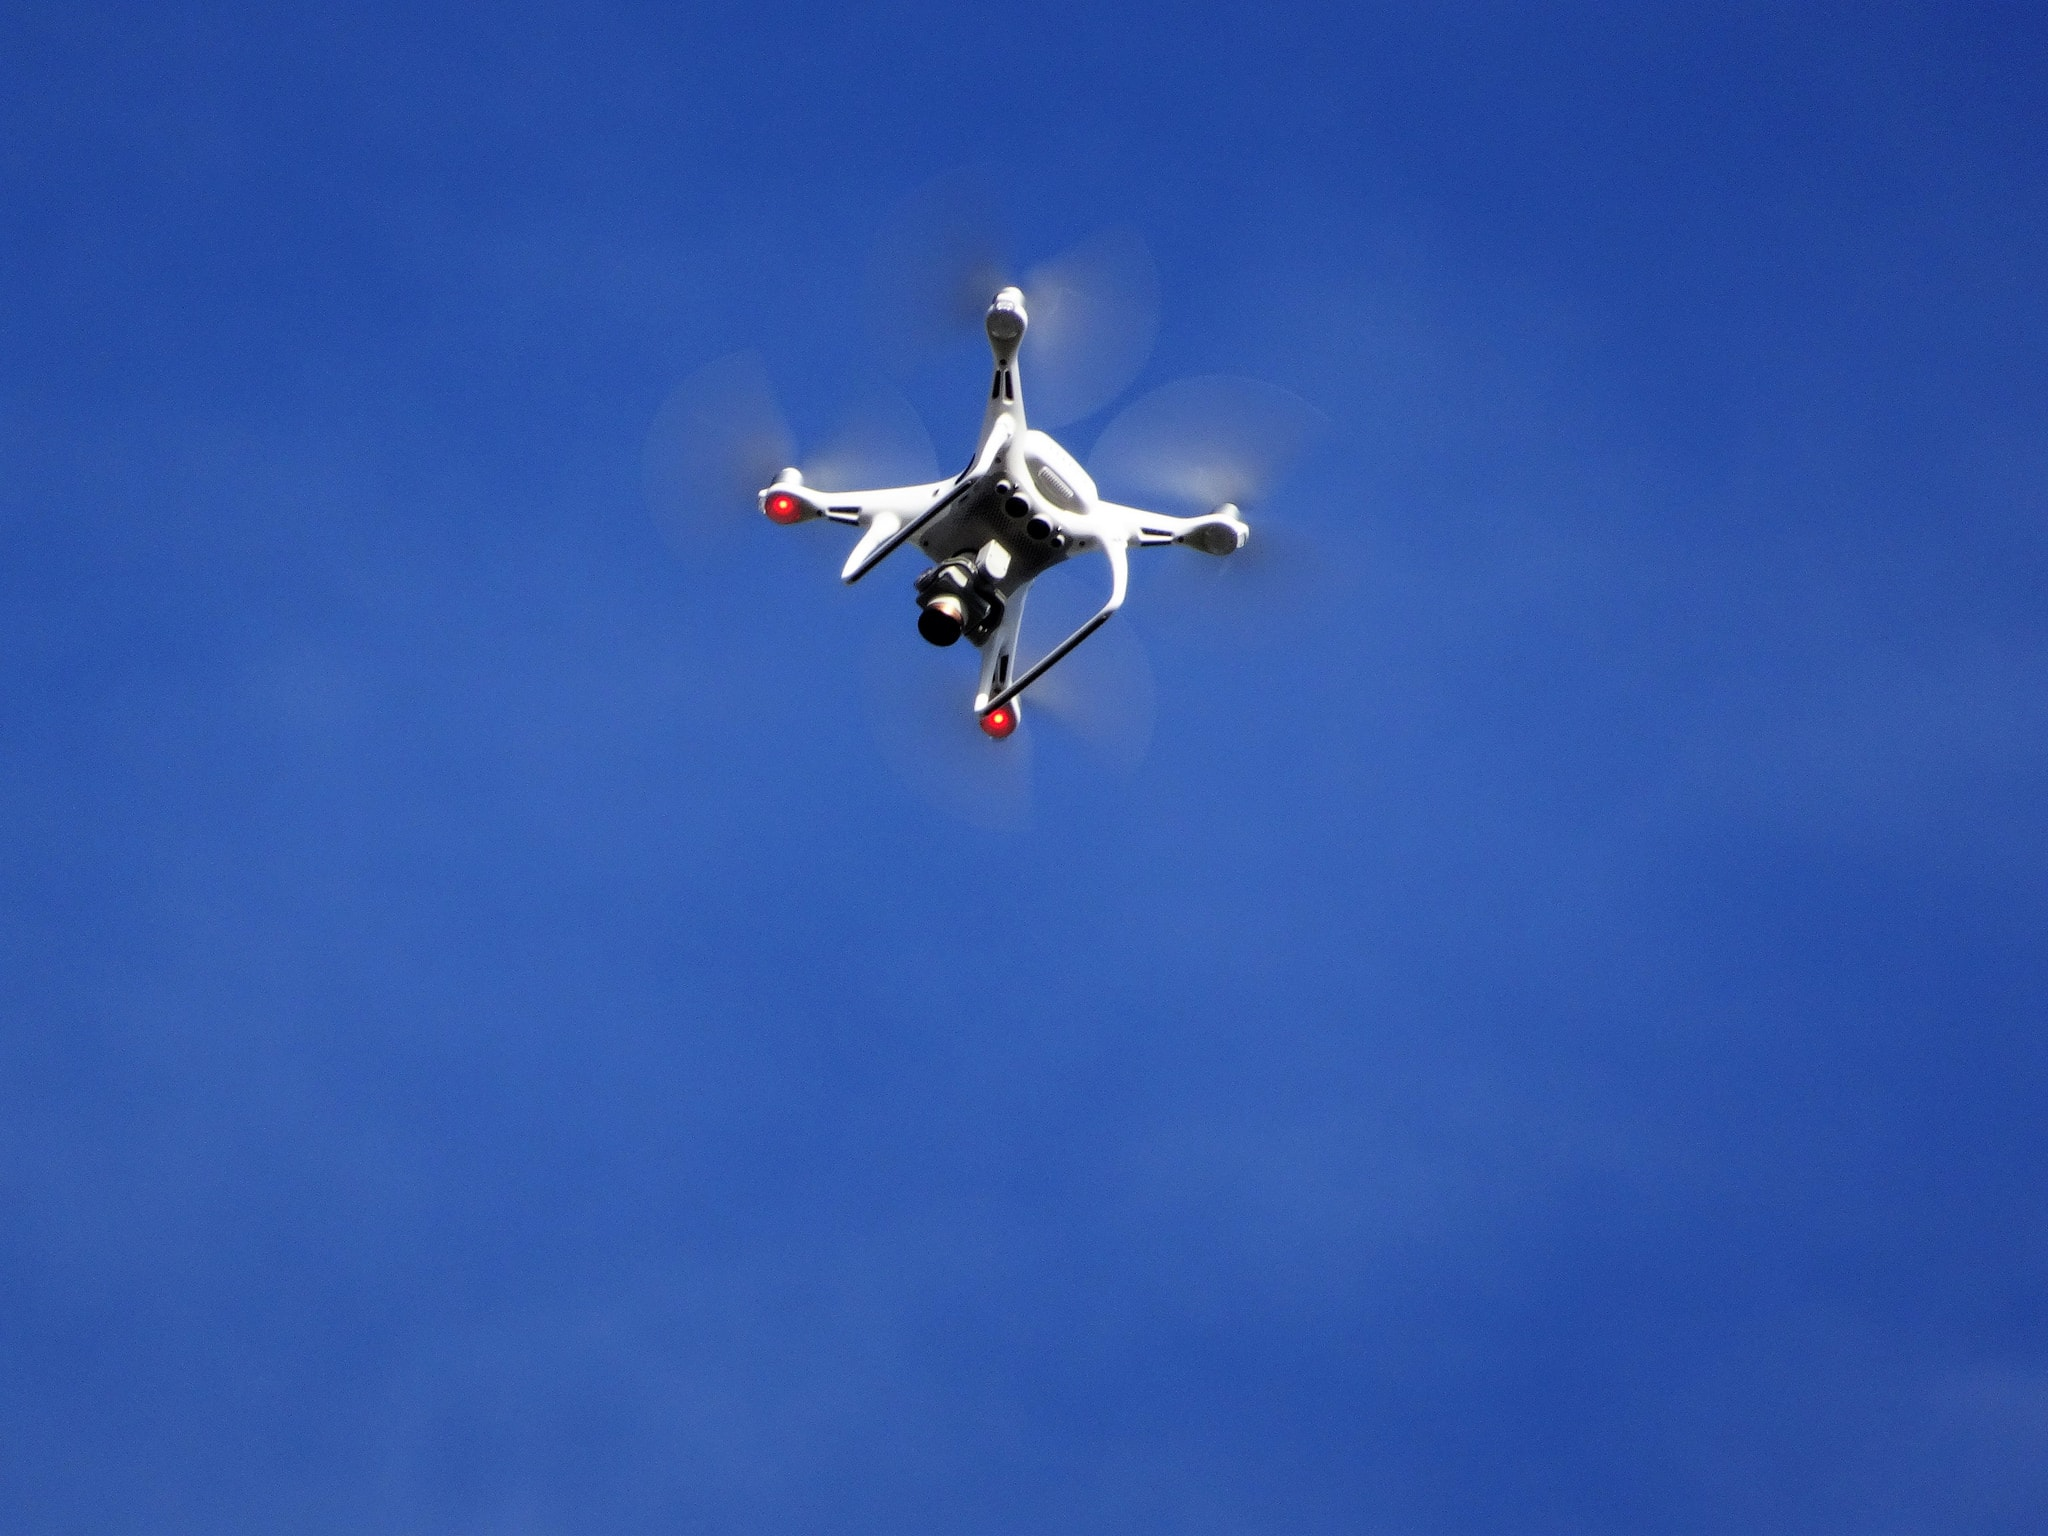drone: (660, 174, 1321, 800)
